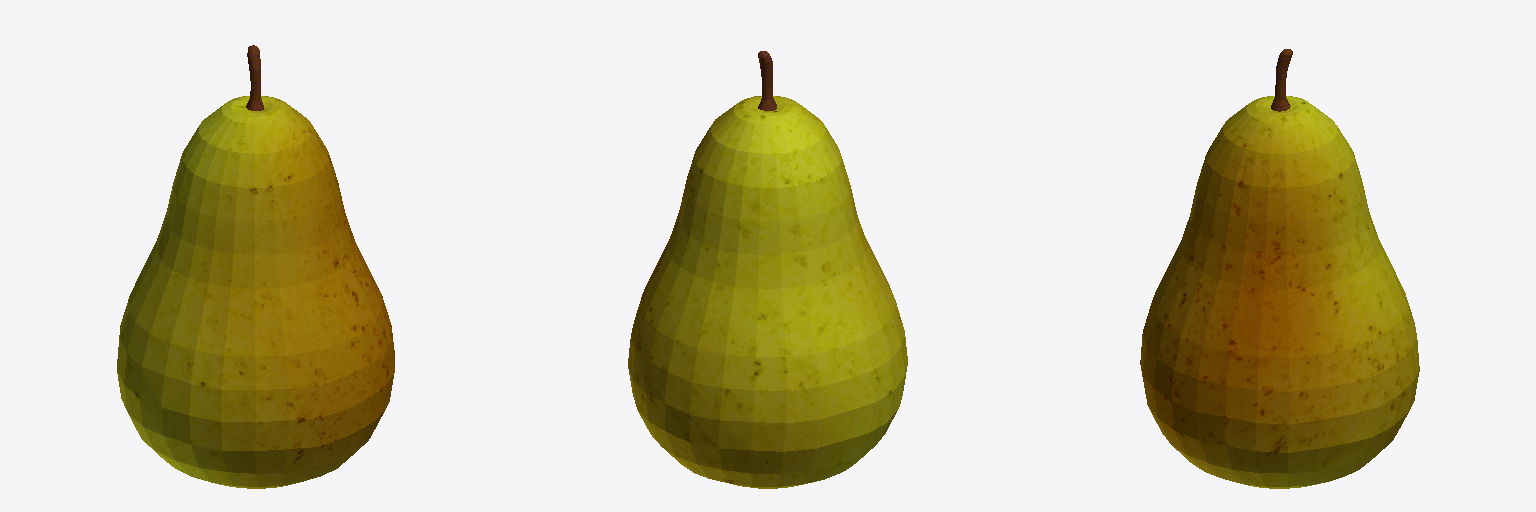
The picture shows the model from 3 angles: view 1: azimuth 30°, elevation 25°; view 2: azimuth 150°, elevation 25°; view 3: azimuth 270°, elevation 25°; orthographic projection.
Parts seen in each view (by area): view 1: Pear_Low:Group3828; view 2: Pear_Low:Group3828; view 3: Pear_Low:Group3828.
Boxes of the visible parts, box(x1,y1,x2,y2) form: Pear_Low:Group3828: box(117, 45, 394, 488); Pear_Low:Group3828: box(628, 51, 907, 488); Pear_Low:Group3828: box(1140, 49, 1419, 488).
Size of the model in its own units: 20.65 by 33.8 by 20.69.
1 materials, 1 textured.